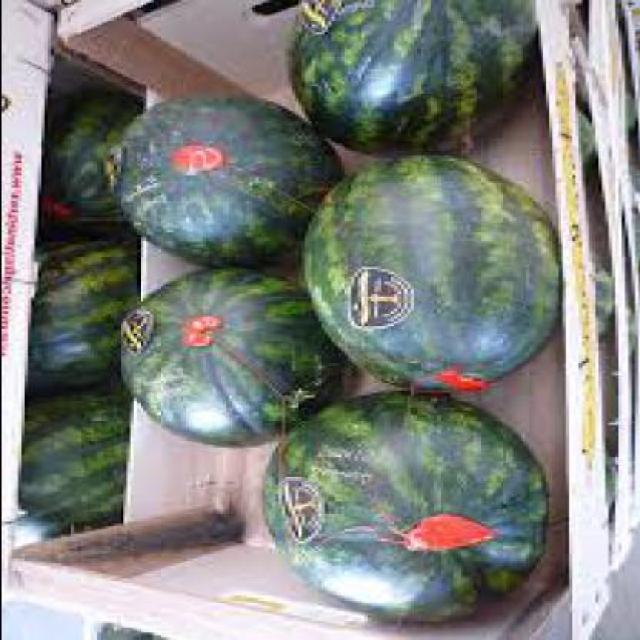BIODEGRADABLE: (263, 394, 548, 623), (302, 157, 557, 391), (120, 271, 355, 446), (112, 98, 332, 277), (289, 0, 534, 157), (32, 240, 138, 389), (22, 394, 126, 525), (46, 92, 146, 221)
